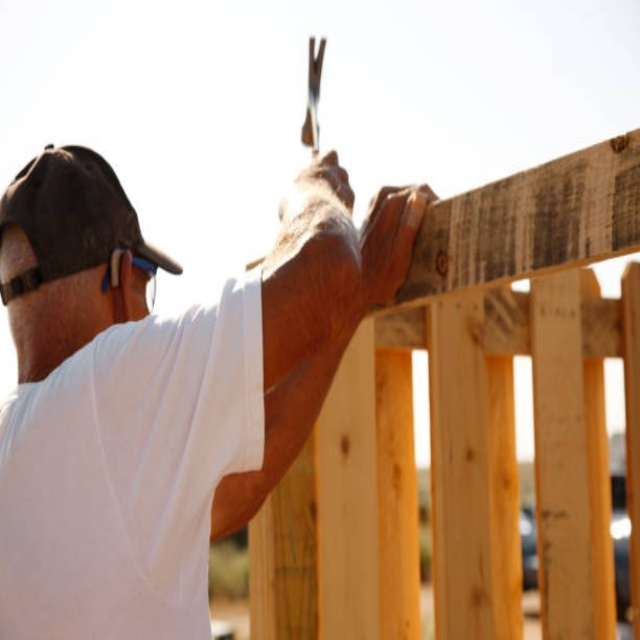Gafas: (104, 251, 159, 315)
Sin_guantes: (358, 174, 441, 301)
